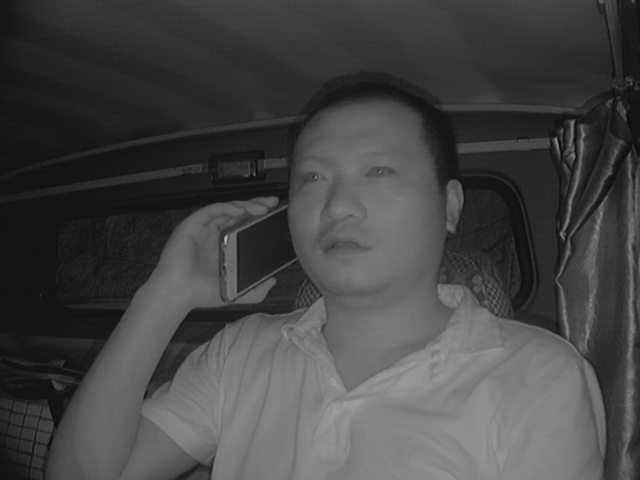hand: (165, 196, 279, 311)
